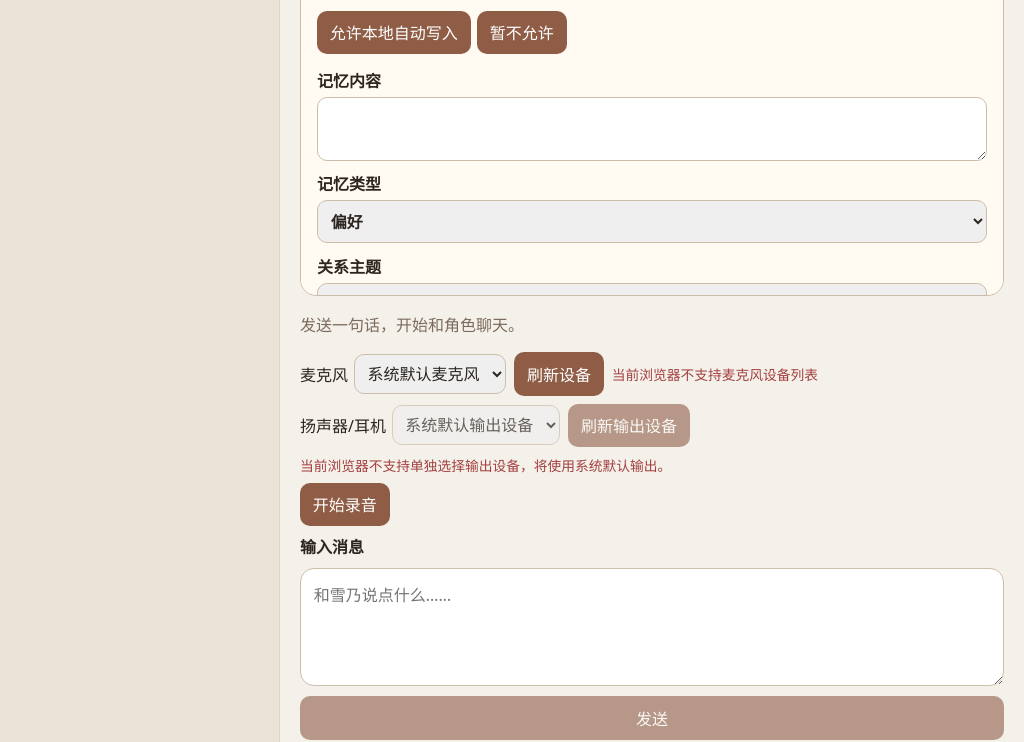
Test case: App › offers send-and-speak for a pending transcript
The image size is (1024, 742).
(page scrolled)
Click the button "开始录音": (345, 504) [300,483,390,526]
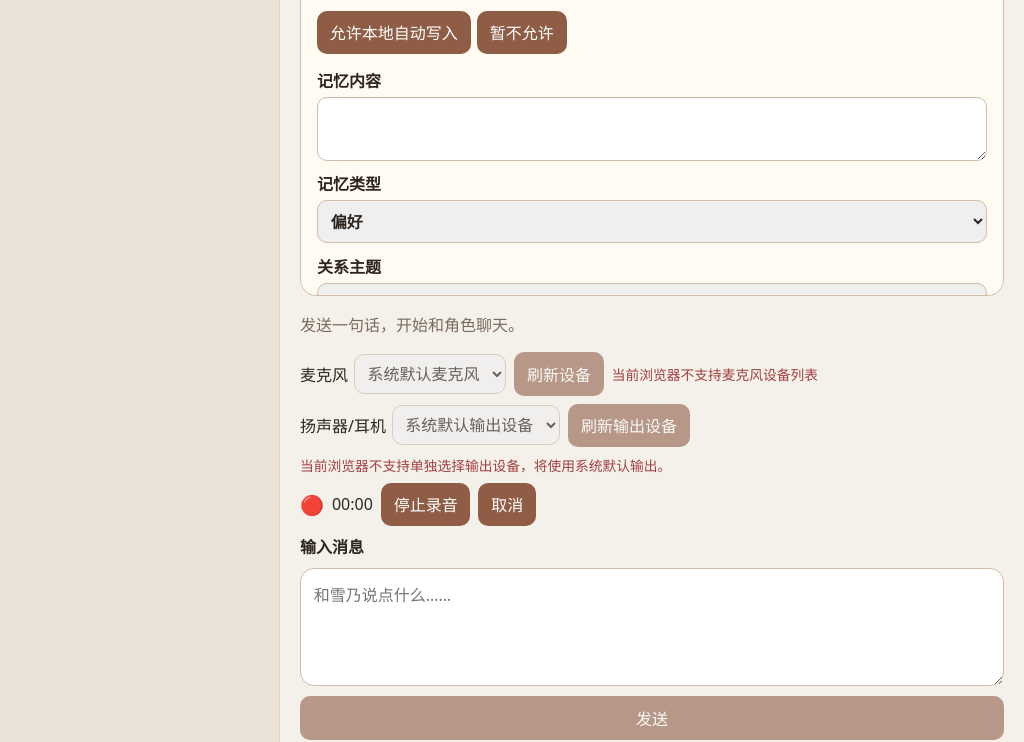
Click the button "停止录音": (426, 504) [381,483,470,526]
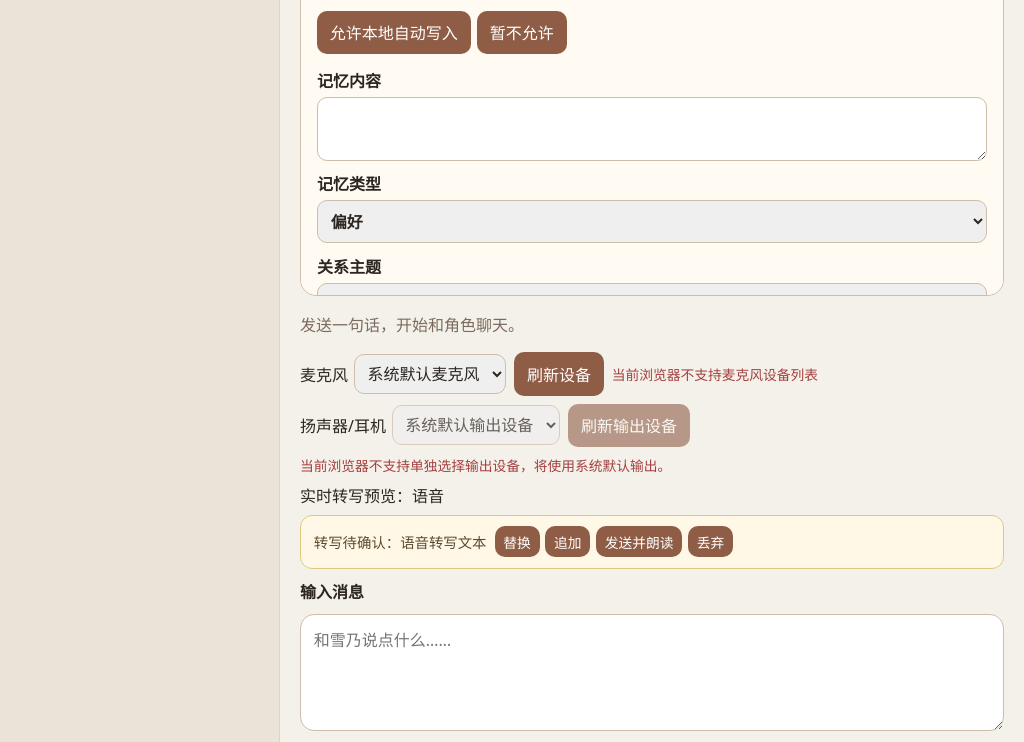
Expected: the button "发送并朗读" is shown, [596,526,682,557]
